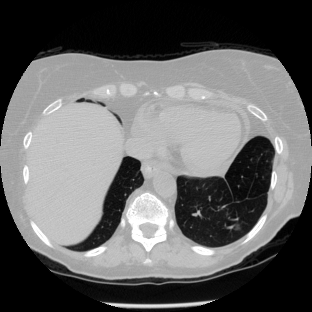nodule: (235, 224, 241, 230)
